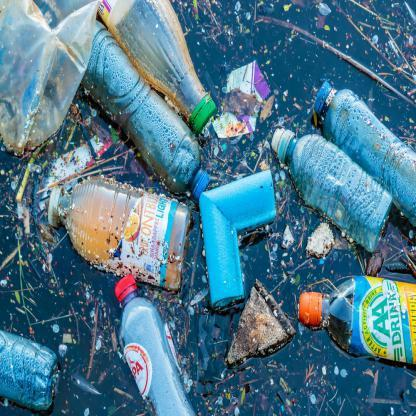Rác: (63, 14, 209, 188), (48, 170, 188, 296), (269, 120, 397, 235), (318, 81, 415, 229), (0, 1, 93, 152), (293, 268, 415, 379), (110, 277, 205, 415), (190, 171, 282, 310), (97, 3, 215, 109), (231, 272, 299, 382), (1, 327, 62, 415), (220, 61, 271, 147), (318, 2, 334, 16), (369, 34, 379, 47)
